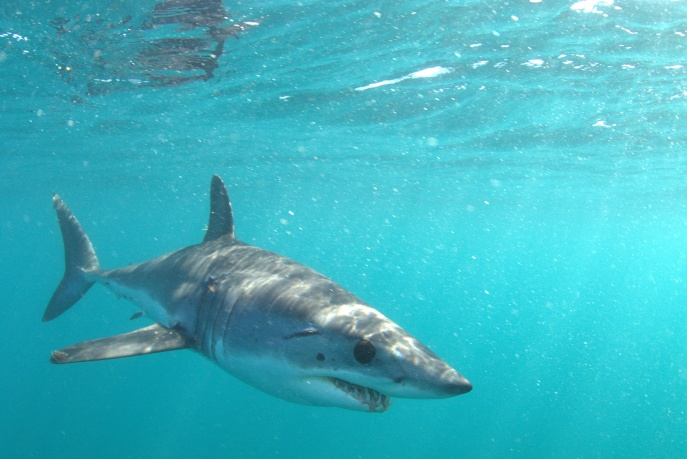Mako: (36, 170, 481, 427)
